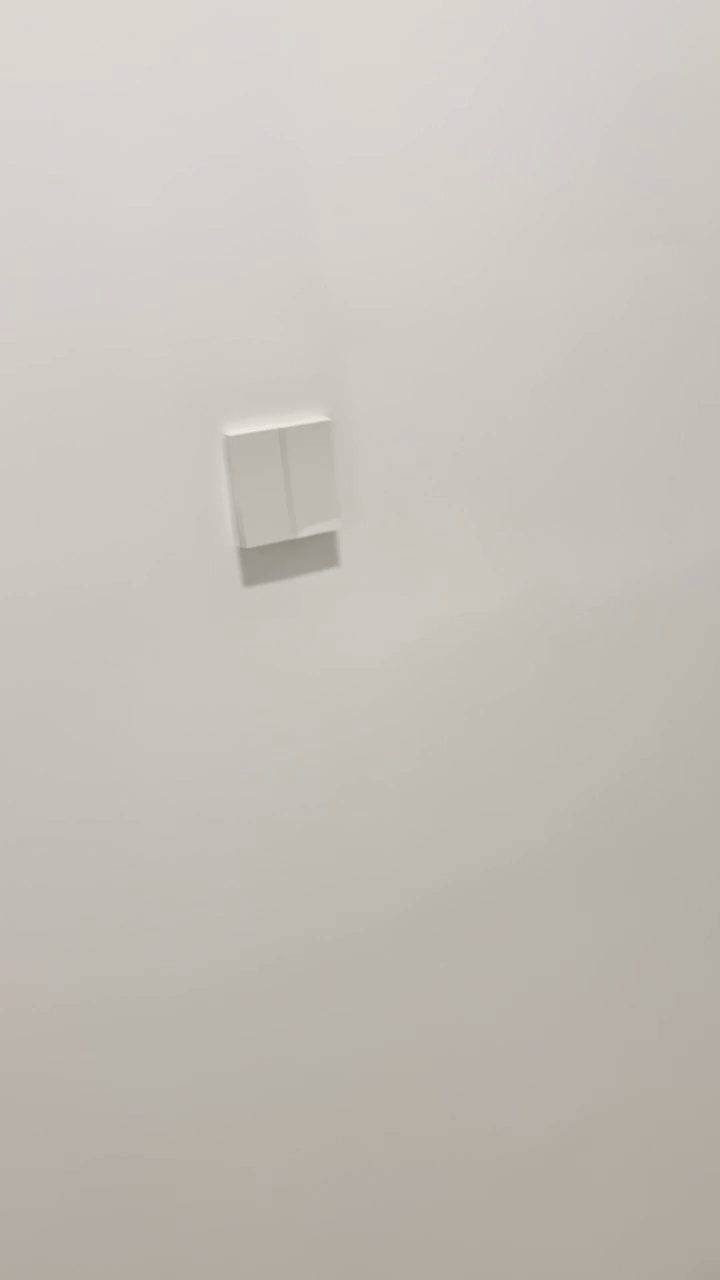button: (215, 412, 346, 549)
